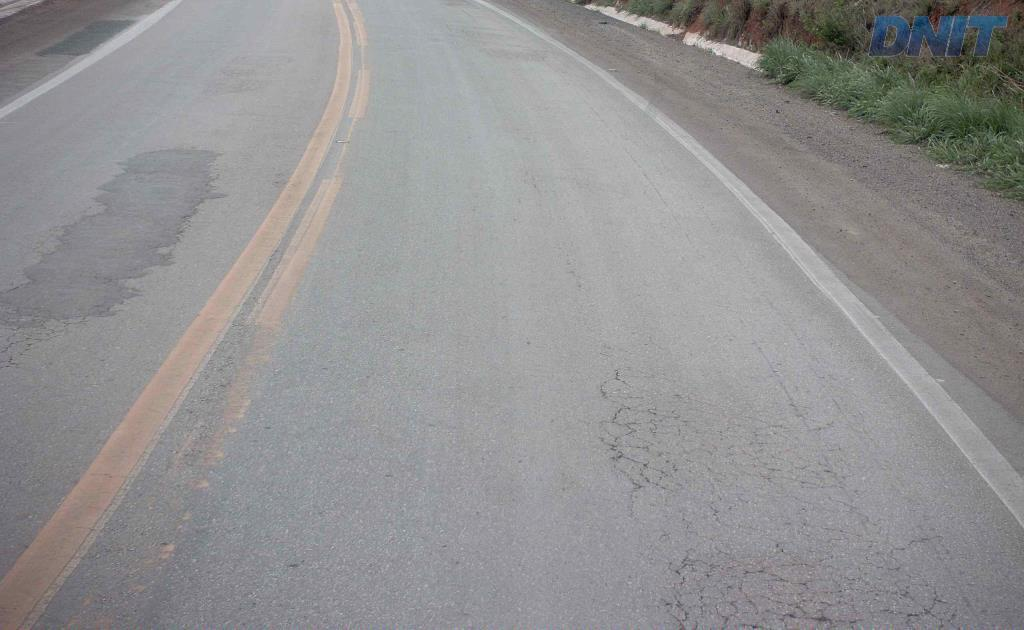crack: (878, 574, 987, 629), (598, 436, 673, 495), (772, 588, 864, 629)
